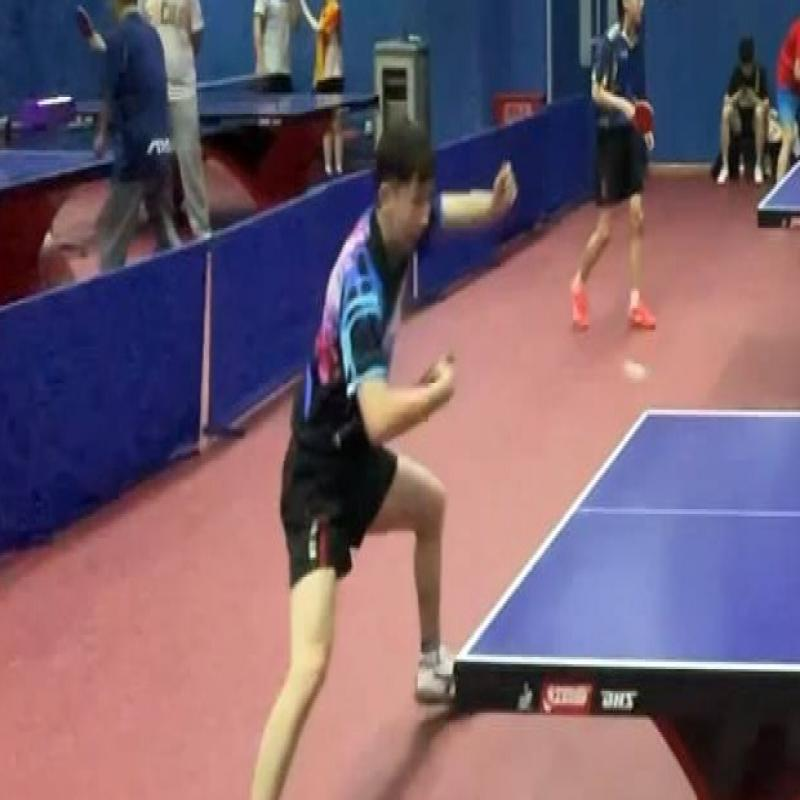bats: (412, 342, 467, 393)
